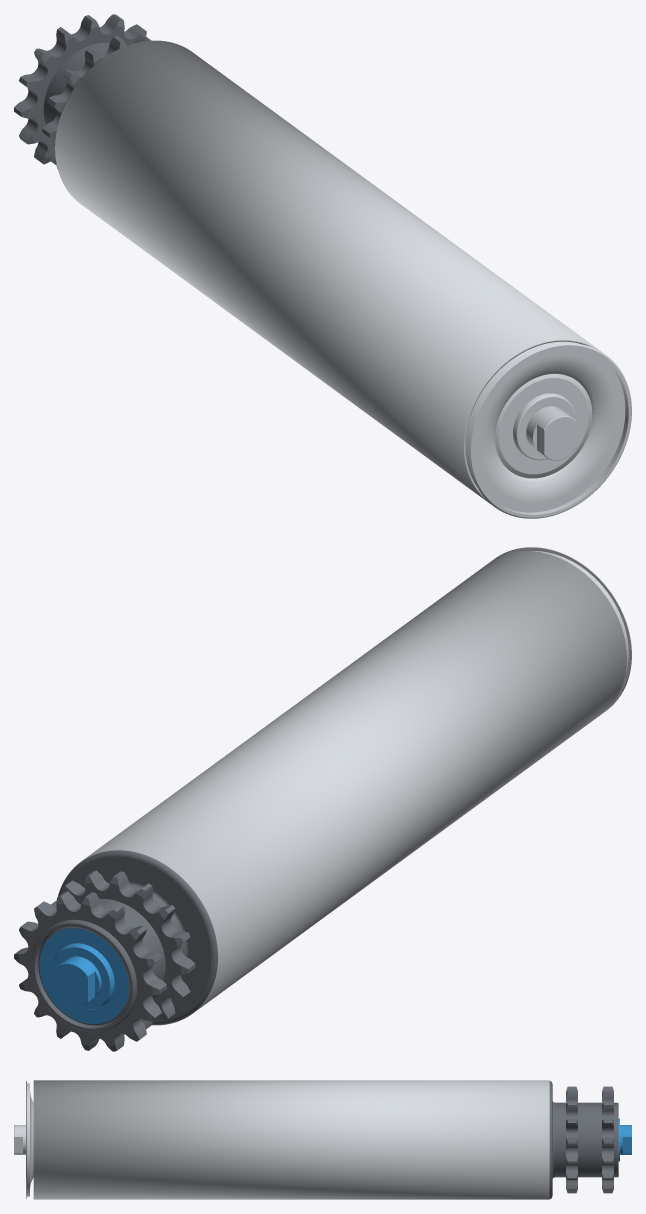
The model's file is MOLTECH_3800_LIGHT_AR_v2.glb.
3 renders of one model, top to bottom at view 1: azimuth 30°, elevation 25°; view 2: azimuth 150°, elevation 25°; view 3: azimuth 270°, elevation 25°, orthographic. The views are drawn at different scales.
Parts seen in each view (by area): view 1: steel_roller_tube, steel_end_parts, sprockets, steel_end_closure_1; view 2: steel_roller_tube, sprockets, blue_collar, steel_end_parts; view 3: steel_roller_tube, sprockets, steel_end_parts, blue_collar.
Boxes of the visible parts, x1,y1,x2,y2 form: steel_roller_tube: [55, 40, 602, 503]; steel_end_parts: [468, 343, 631, 518]; sprockets: [14, 14, 151, 168]; steel_end_closure_1: [465, 341, 592, 486]; steel_roller_tube: [58, 551, 626, 1025]; sprockets: [14, 850, 218, 1051]; blue_collar: [39, 928, 128, 1024]; steel_end_parts: [492, 547, 631, 711]; steel_roller_tube: [33, 1080, 549, 1199]; sprockets: [549, 1081, 618, 1198]; steel_end_parts: [14, 1081, 33, 1198]; blue_collar: [618, 1118, 631, 1161].
Size of the model in its own units: 0.0579 by 0.0579 by 0.3.
